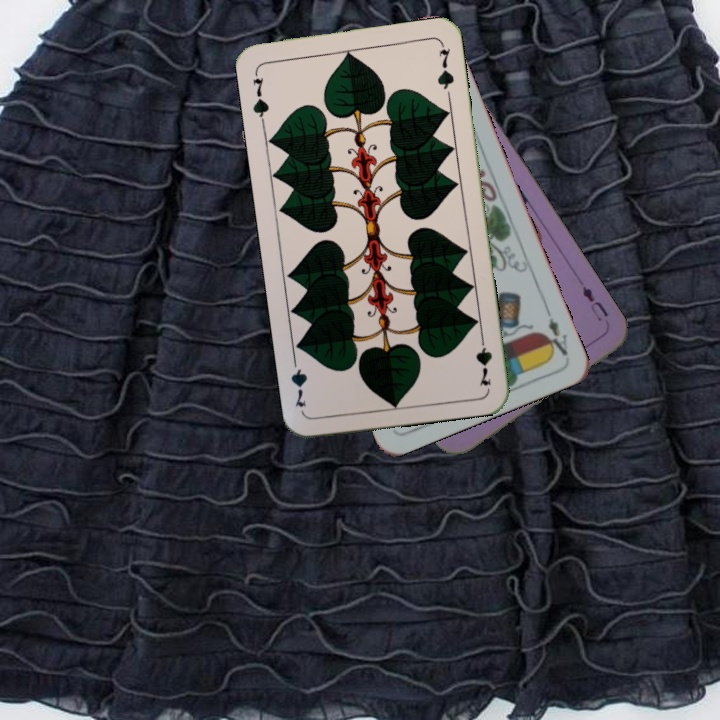EA: (539, 304, 571, 360)
EU: (578, 282, 611, 324)
G7: (472, 329, 495, 389), (248, 67, 271, 126)
